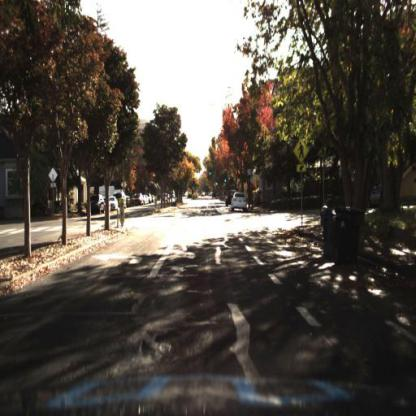car: (369, 177, 383, 210), (366, 185, 384, 208), (86, 194, 105, 215), (234, 193, 251, 211), (110, 195, 121, 211), (226, 192, 232, 208)
trafficLight-Green: (207, 168, 214, 184), (222, 178, 230, 190), (215, 174, 220, 190), (224, 173, 229, 186), (214, 182, 219, 191)
